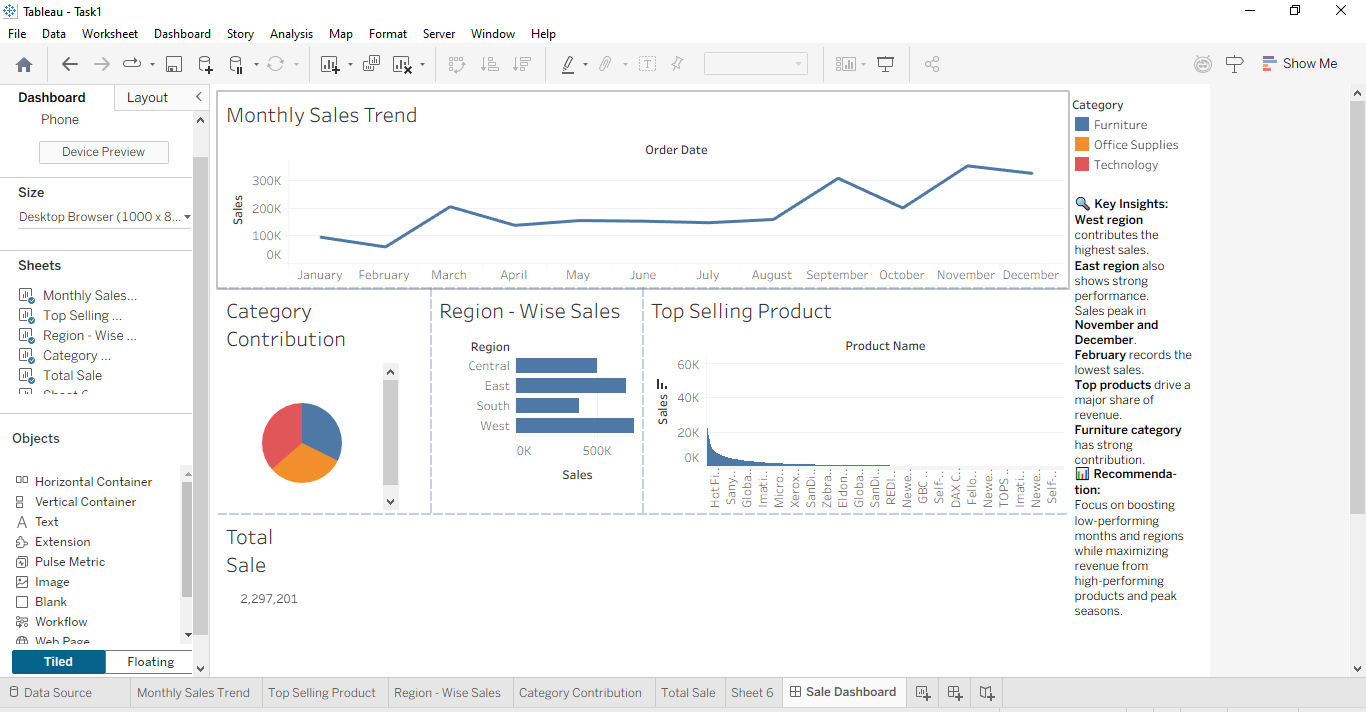

What the dashboard file says about the page in this screenshot:
{"tool":"tableau","page":{"name":"Sale Dashboard ","canvas":[1000,800],"ordinal":0},"visuals":[{"type":"worksheet","title":"Monthly Sales Trend","mark":"Automatic","rows":["Sales"],"cols":["Order Date"],"box":[8,8,850,196]},{"type":"legend","title":"Category Contribution","param":"[federated.0vu01k50sn6uhi18zckni1epqkjt].[none:Category:nk]","box":[858,8,134,101]},{"type":"text","box":[858,109,134,452]},{"type":"worksheet","title":"Category Contribution","mark":"Pie","box":[8,204,212.5,226]},{"type":"worksheet","title":"Region - Wise Sales","mark":"Automatic","rows":["Region"],"cols":["Sales"],"box":[220.5,204,212.5,226]},{"type":"worksheet","title":"Top Selling Product","mark":"Automatic","rows":["Sales"],"cols":["Product Name"],"box":[433,204,425,226]},{"type":"worksheet","title":"Total Sale","mark":"Automatic","box":[8,430,850,362]}]}

Visuals, with their boxes on the page's 1000x800 design canvas (x1, y1, x2, y2). These are canvas units, not pixel positions in the 1366x712 screenshot, which may show the page scaled, cropped or inside an application window:
"Monthly Sales Trend" worksheet: {"left": 8, "top": 8, "right": 858, "bottom": 204}
"Category Contribution" legend: {"left": 858, "top": 8, "right": 992, "bottom": 109}
text: {"left": 858, "top": 109, "right": 992, "bottom": 561}
"Category Contribution" worksheet (Pie marks): {"left": 8, "top": 204, "right": 220, "bottom": 430}
"Region - Wise Sales" worksheet: {"left": 220, "top": 204, "right": 433, "bottom": 430}
"Top Selling Product" worksheet: {"left": 433, "top": 204, "right": 858, "bottom": 430}
"Total Sale" worksheet: {"left": 8, "top": 430, "right": 858, "bottom": 792}
